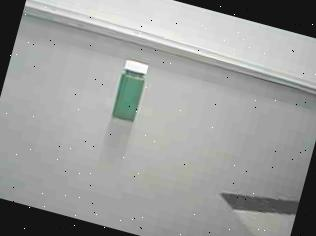Bottle C: (100, 50, 156, 128)
